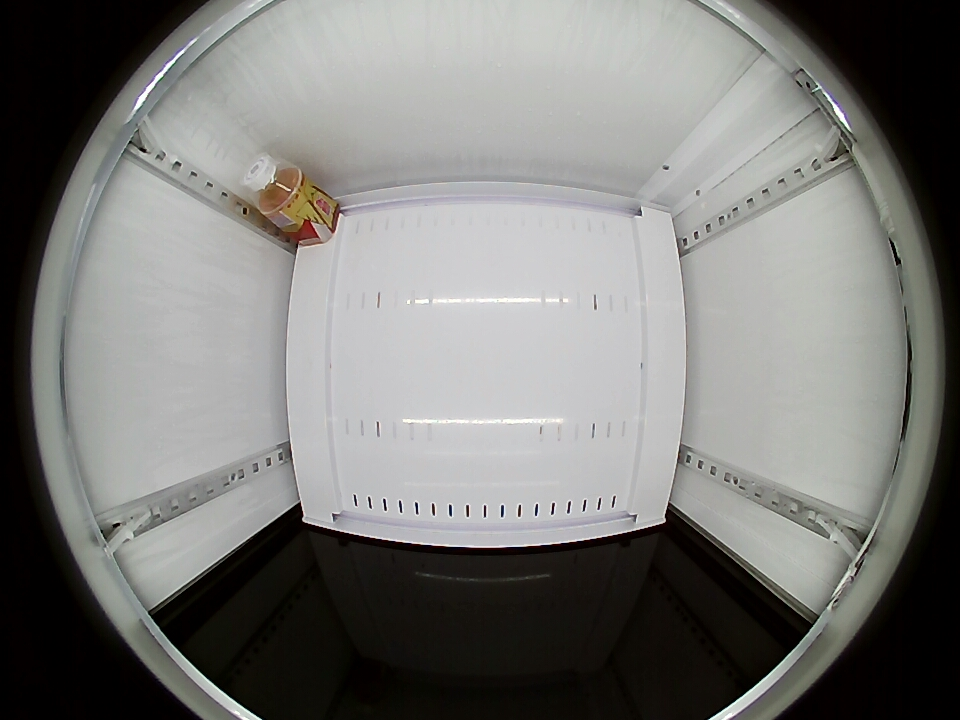dongpeng-b: (242, 154, 307, 219)
